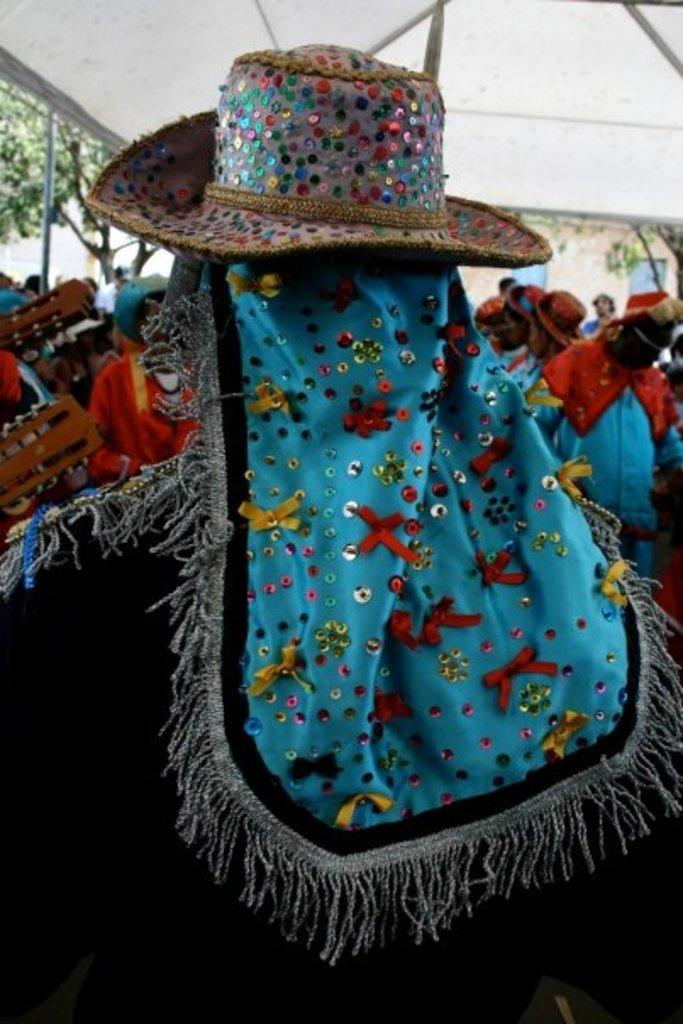Hat: (84, 34, 555, 266)
